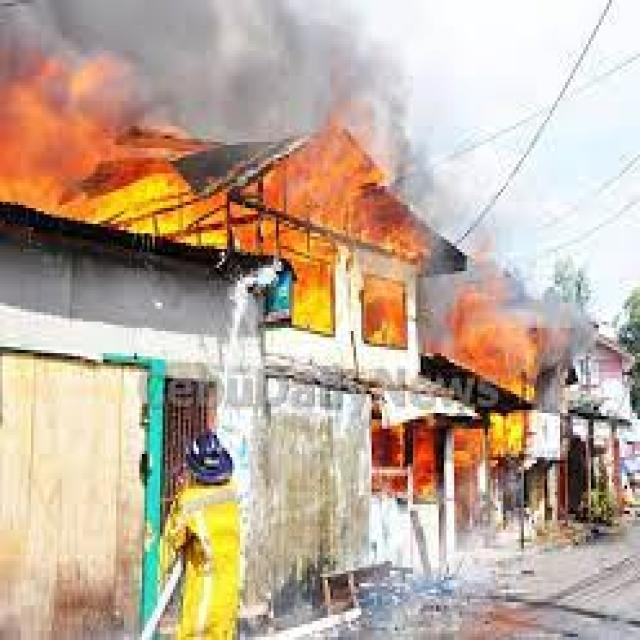Fire: (6, 88, 437, 250), (303, 258, 572, 378)
Smoke: (5, 2, 426, 150)
